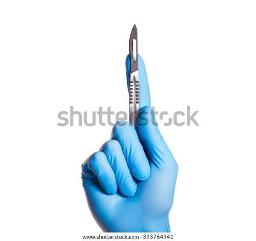scalpel: (128, 23, 140, 127)
